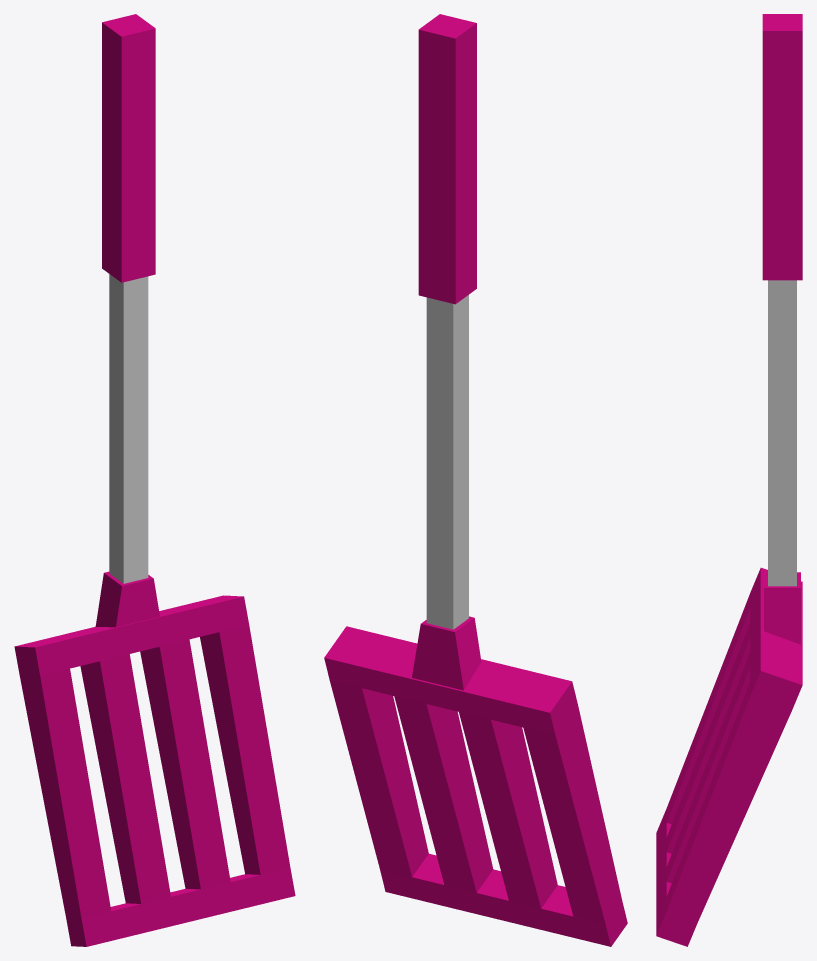
File: fritterTender2_PLY.fbx
The picture shows the model from 3 angles, left to right: view 1: azimuth 30°, elevation 25°; view 2: azimuth 150°, elevation 25°; view 3: azimuth 270°, elevation 25°; orthographic projection. The views are drawn at different scales.
Parts seen in each view (by area): view 1: fritterTender2_PLY; view 2: fritterTender2_PLY; view 3: fritterTender2_PLY.
Boxes of the visible parts, left/top/right/bottom form: fritterTender2_PLY: left=14, top=14, right=295, bottom=946; fritterTender2_PLY: left=324, top=14, right=627, bottom=946; fritterTender2_PLY: left=656, top=14, right=802, bottom=946.
Size of the model in its own units: 0.3784 by 1.49 by 0.2262.
